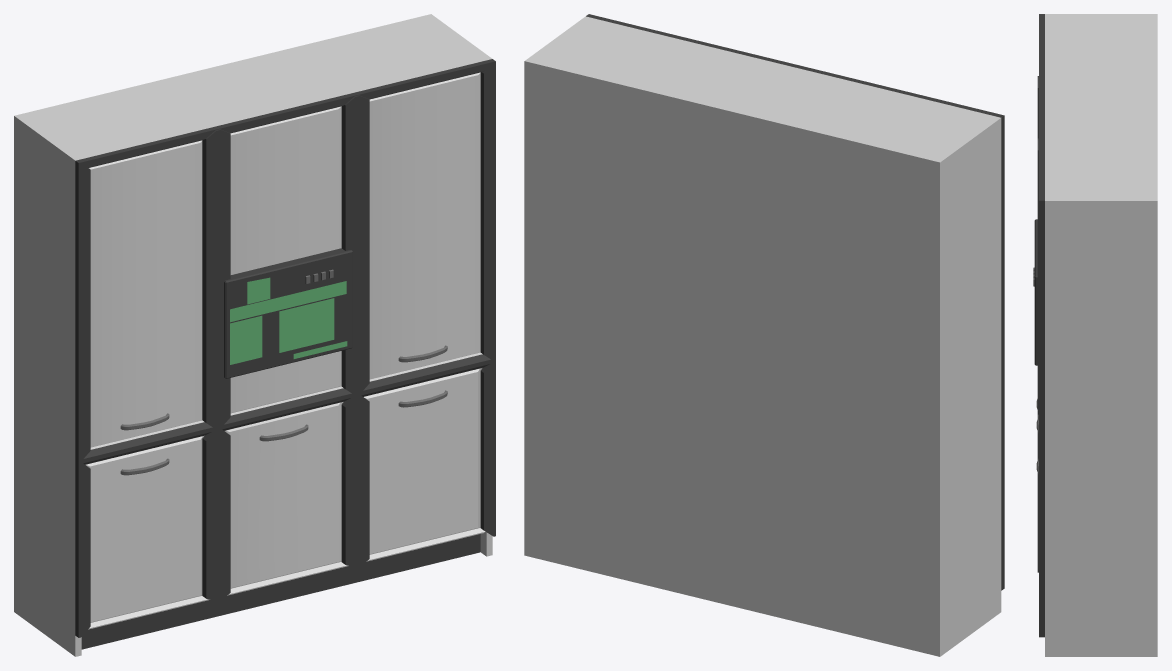
The model's file is HAIERZTKG0404.FBX.
The picture shows the model from 3 angles, left to right: view 1: azimuth 30°, elevation 25°; view 2: azimuth 150°, elevation 25°; view 3: azimuth 270°, elevation 25°; orthographic projection. The views are drawn at different scales.
Parts seen in each view (by area): view 1: HAIERZTKG0404; view 2: HAIERZTKG0404; view 3: HAIERZTKG0404.
Part boxes in pixels (x1=…): HAIERZTKG0404: x1=14, y1=14, x2=495, y2=656; HAIERZTKG0404: x1=524, y1=14, x2=1004, y2=656; HAIERZTKG0404: x1=1033, y1=14, x2=1157, y2=656.
Size of the model in its own units: 4572 by 5197 by 1286.
